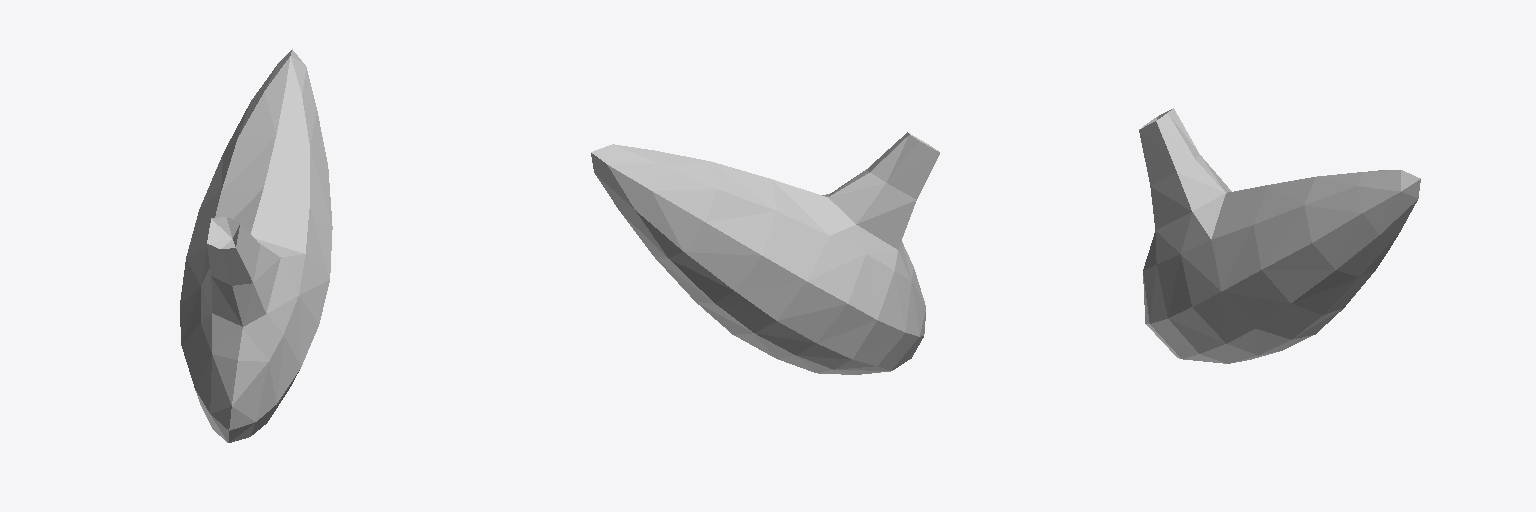
Rendered from ocarina.obj.
3 renders of one model, left to right at view 1: azimuth 30°, elevation 25°; view 2: azimuth 150°, elevation 25°; view 3: azimuth 270°, elevation 25°, orthographic.
Parts seen in each view (by area): view 1: ocarinaoftime.001; view 2: ocarinaoftime.001; view 3: ocarinaoftime.001.
Boxes of the visible parts, x1,y1,x2,y2 form: ocarinaoftime.001: [180, 49, 332, 442]; ocarinaoftime.001: [591, 132, 939, 374]; ocarinaoftime.001: [1139, 108, 1420, 363].
Bounding box in the file's own units: 2.85 × 3.27 × 3.14.